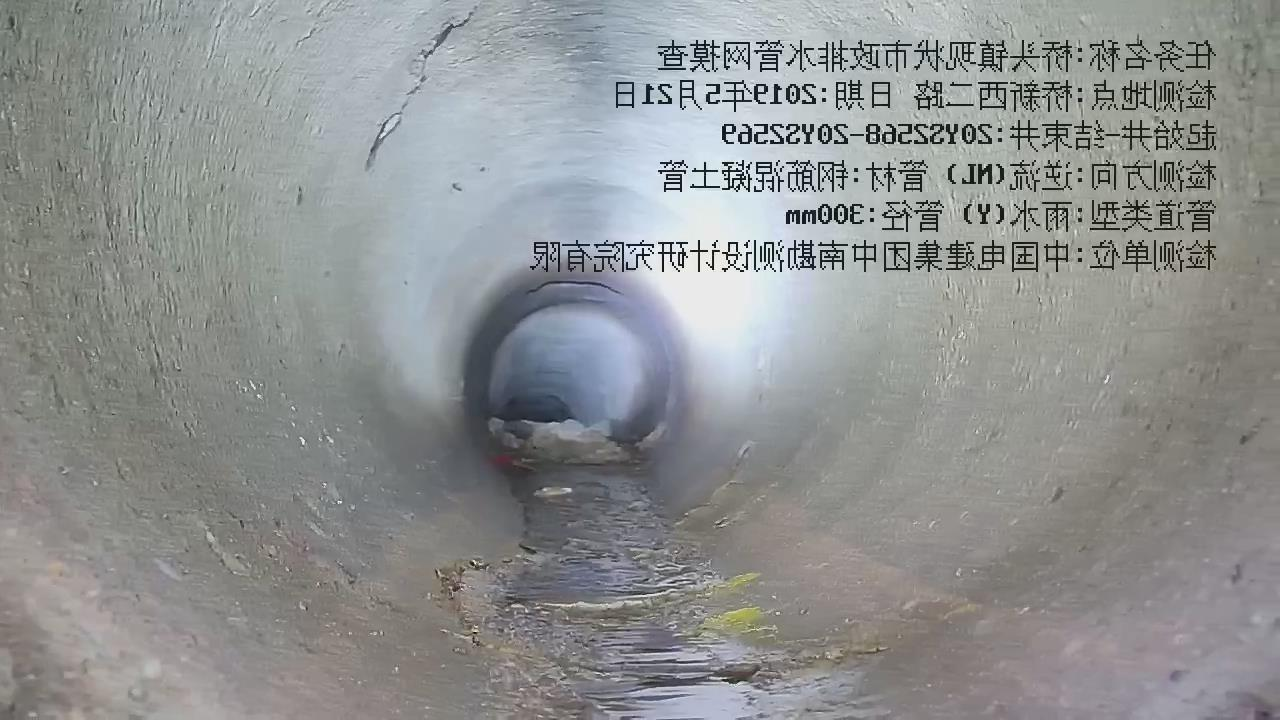PL: (524, 277, 624, 304)
ZAW: (490, 419, 633, 465)
